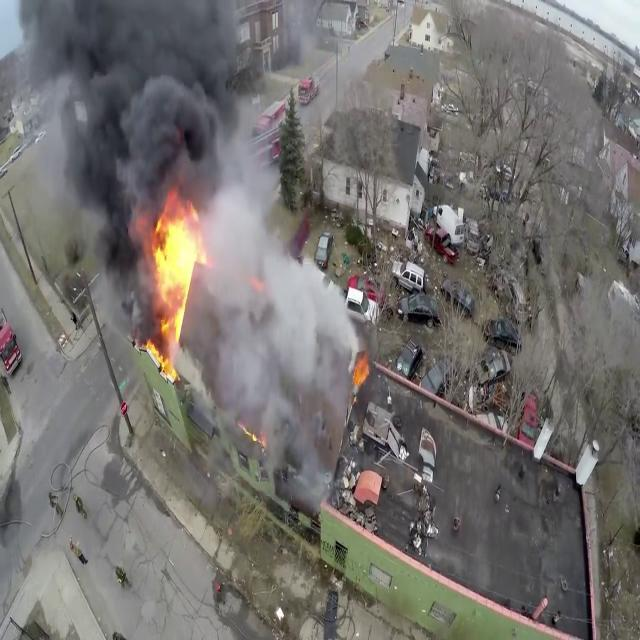Fire: (141, 192, 210, 368), (350, 353, 370, 395)
Smoke: (6, 2, 348, 424), (6, 0, 306, 248)
